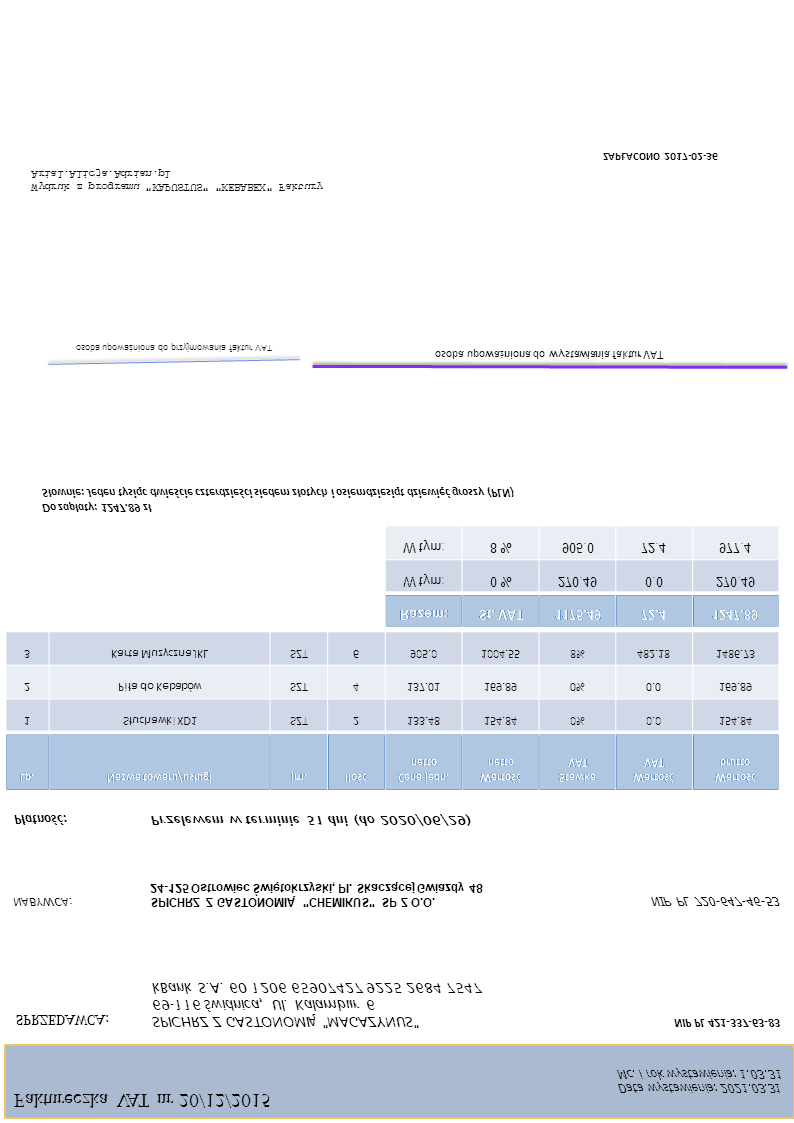Table: (4, 633, 779, 792), (384, 524, 780, 628)
TextBox: (147, 977, 485, 1032), (39, 483, 515, 517), (146, 878, 485, 912), (27, 168, 326, 194), (12, 1090, 272, 1112), (615, 1065, 784, 1098), (149, 813, 472, 829), (432, 346, 666, 362), (74, 342, 274, 356), (648, 893, 781, 910), (671, 1015, 783, 1033), (12, 1010, 111, 1029), (599, 150, 719, 165), (11, 812, 68, 829), (11, 895, 74, 910)
